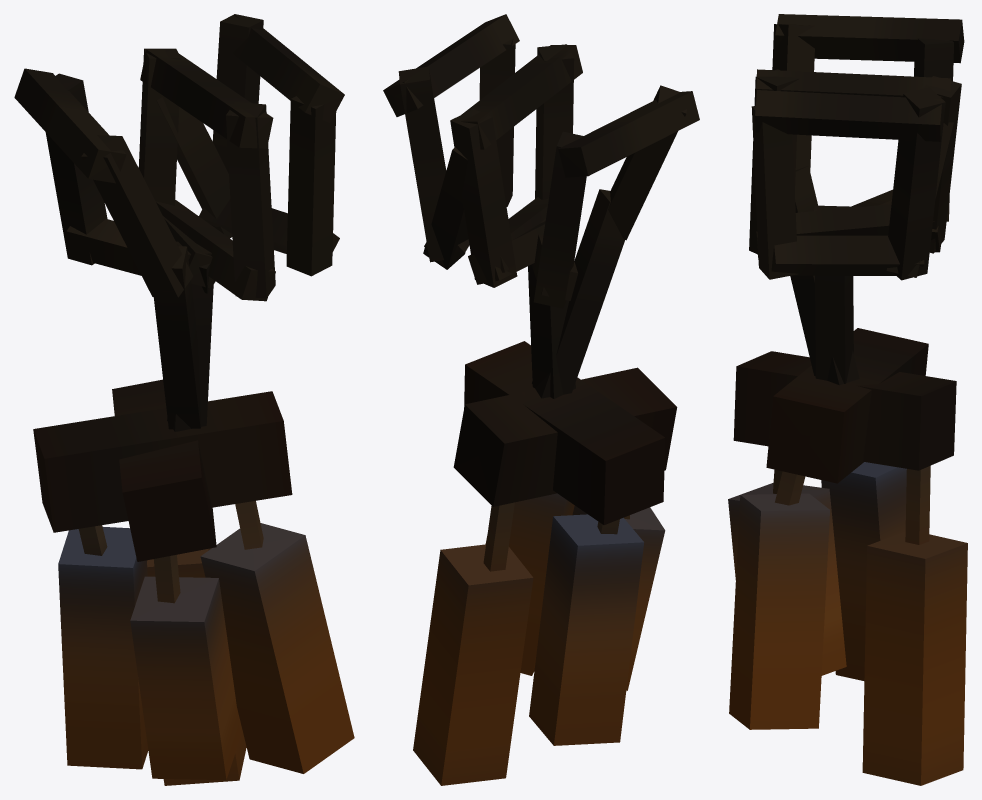
The model's file is Chime_01_quill.fbx.
The picture shows the model from 3 angles, left to right: view 1: azimuth 30°, elevation 25°; view 2: azimuth 150°, elevation 25°; view 3: azimuth 270°, elevation 25°; orthographic projection. The views are drawn at different scales.
Visible parts, largest first — view 1: Chime; view 2: Chime; view 3: Chime.
Boxes of the visible parts, bbox=[...] form: Chime: bbox=[14, 14, 354, 785]; Chime: bbox=[383, 14, 699, 785]; Chime: bbox=[728, 14, 967, 785].
Bounding box in the file's own units: 0.2075 × 0.5685 × 0.1759.
